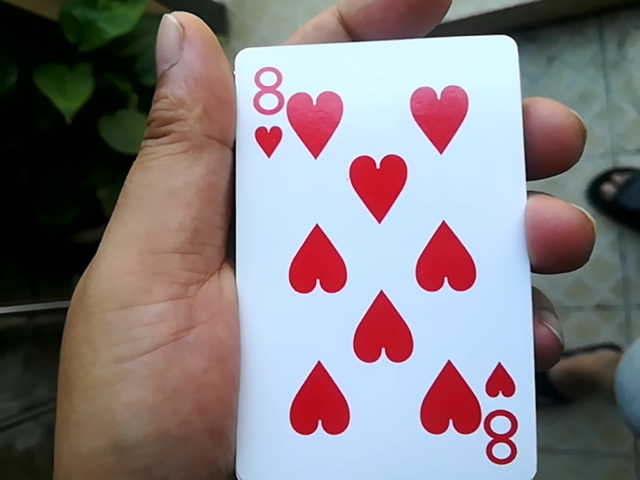hx 8: (215, 51, 540, 475)
